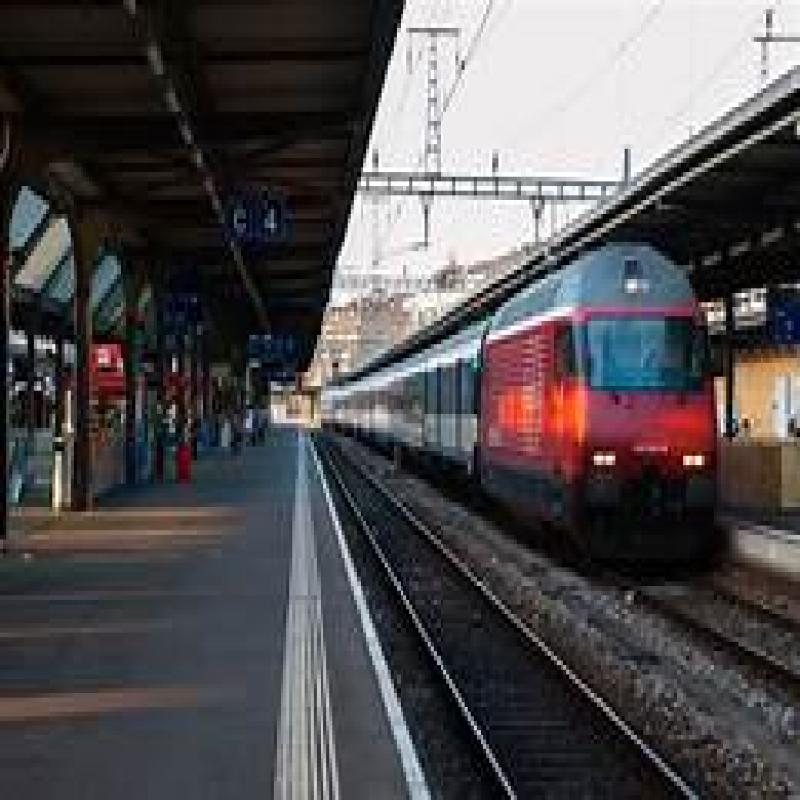train: (315, 304, 749, 546)
